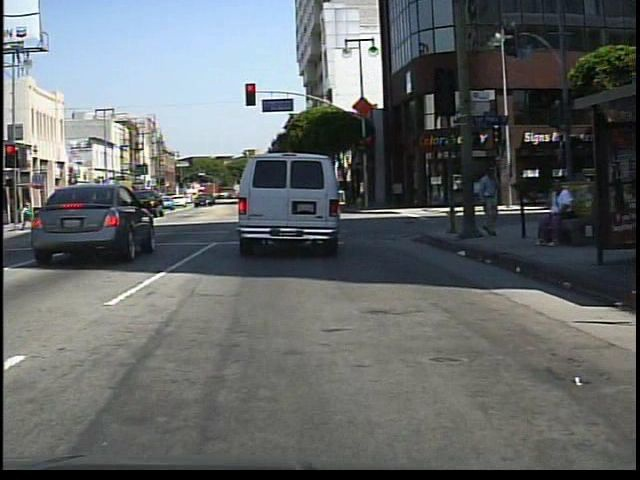person: (532, 176, 580, 248), (475, 162, 505, 240), (21, 194, 36, 234)
